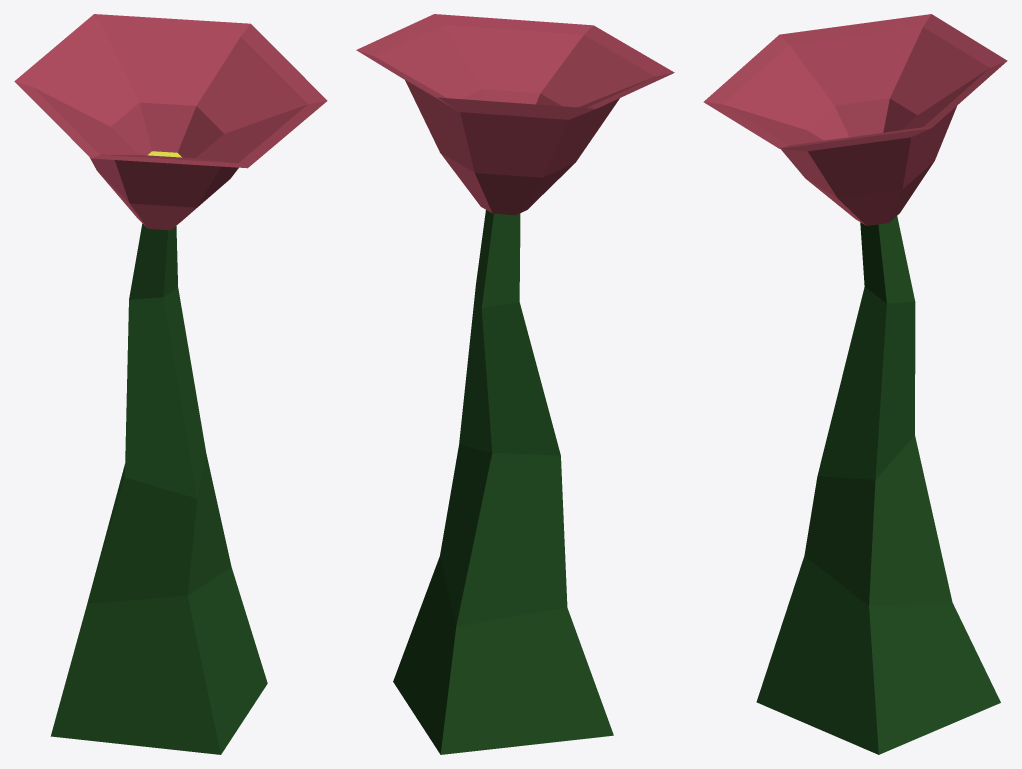
File: redflower.fbx
3 renders of one model, left to right at view 1: azimuth 30°, elevation 25°; view 2: azimuth 150°, elevation 25°; view 3: azimuth 270°, elevation 25°, orthographic. The views are drawn at different scales.
Visible parts, largest first — view 1: Cylinder.001; view 2: Cylinder.001; view 3: Cylinder.001.
Part boxes in pixels (bbox=[...]): Cylinder.001: bbox=[14, 14, 327, 754]; Cylinder.001: bbox=[356, 14, 674, 754]; Cylinder.001: bbox=[703, 14, 1007, 754].
Bounding box in the file's own units: 16.25 × 42.56 × 18.29.
